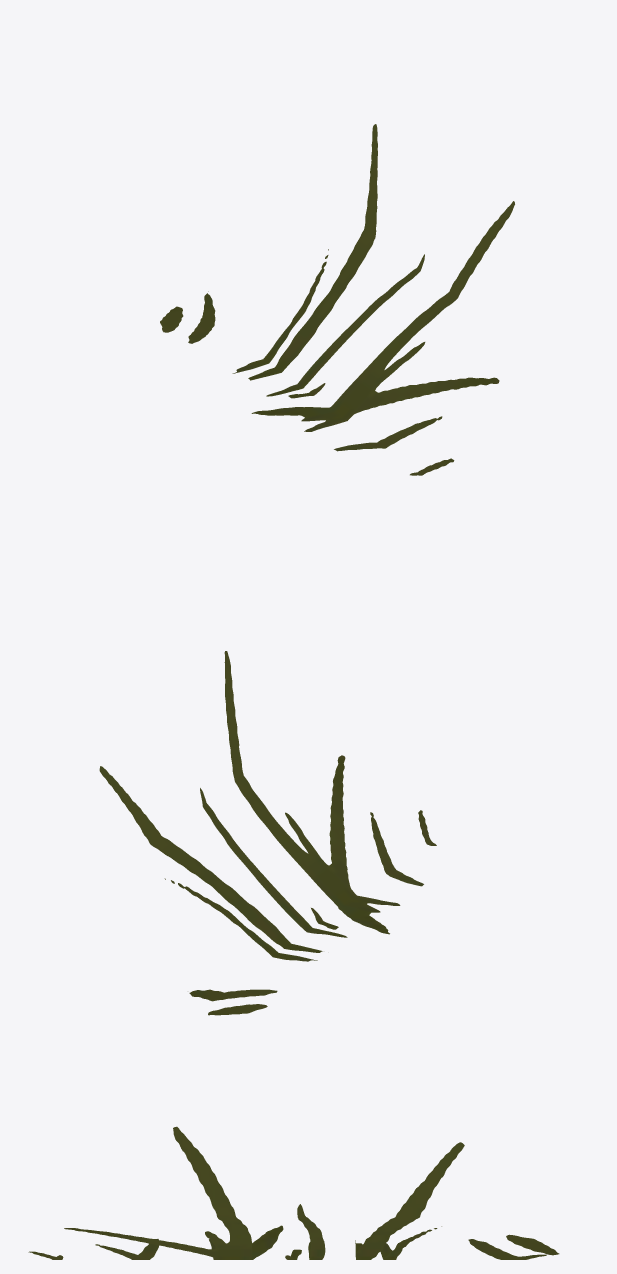
File: grass_clump_00e.fbx
The picture shows the model from 3 angles, top to bottom: view 1: azimuth 30°, elevation 25°; view 2: azimuth 150°, elevation 25°; view 3: azimuth 270°, elevation 25°; orthographic projection. The views are drawn at different scales.
Parts seen in each view (by area): view 1: grass_clump_00e; view 2: grass_clump_00e; view 3: grass_clump_00e.
Part boxes in pixels (x1=…): grass_clump_00e: x1=160, y1=124, x2=514, y2=475; grass_clump_00e: x1=99, y1=651, x2=436, y2=1015; grass_clump_00e: x1=28, y1=1126, x2=559, y2=1259.
Size of the model in its own units: 59.81 by 42.29 by 88.9.
